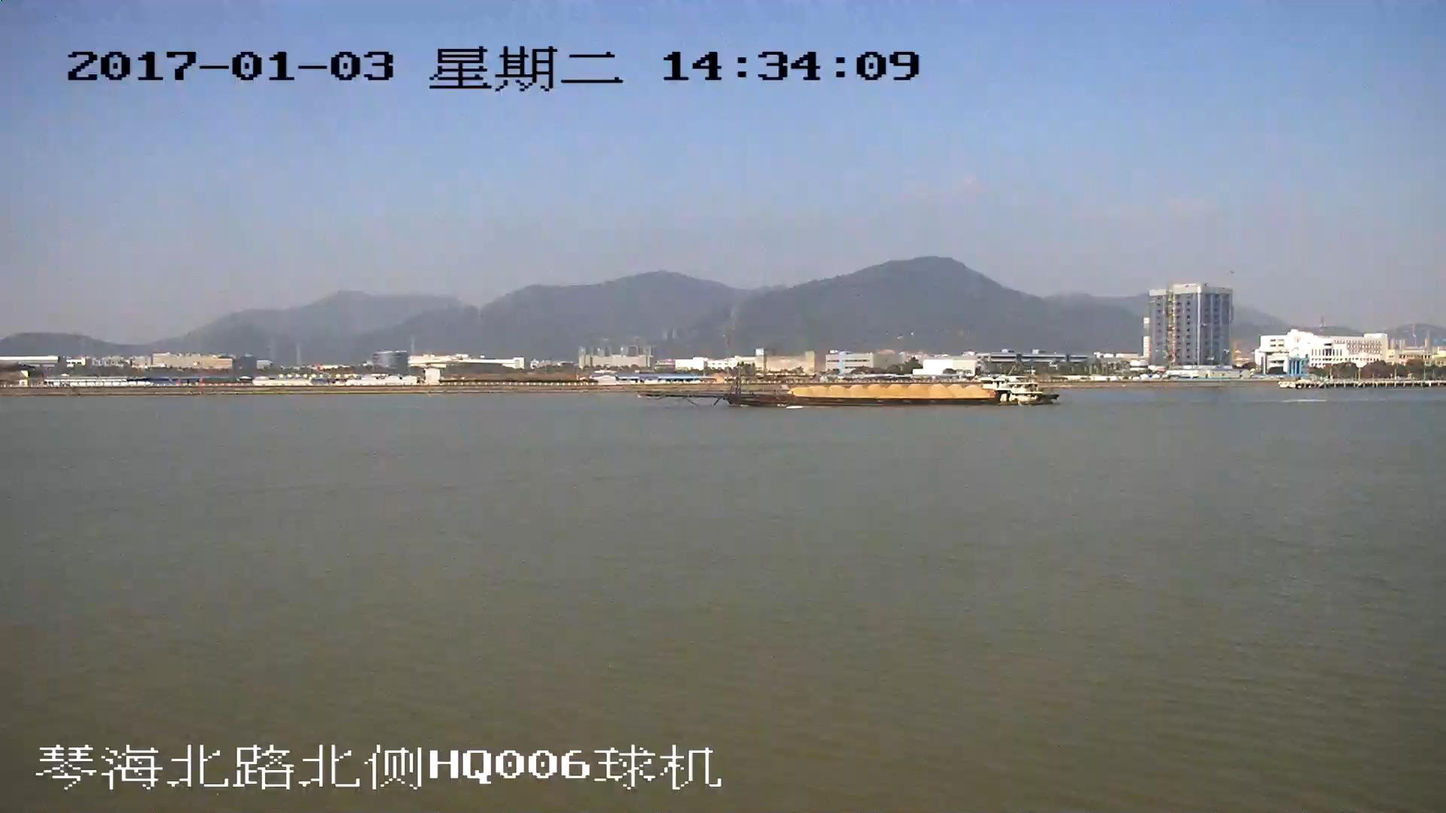ore carrier: (641, 367, 1055, 404)
